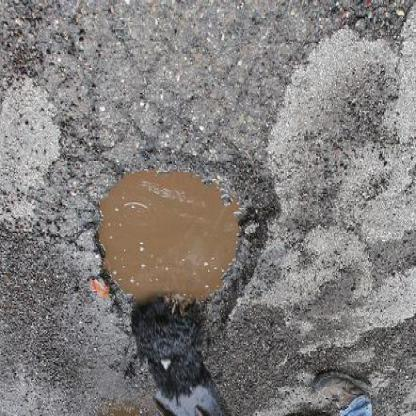pothole: (90, 140, 283, 348)
